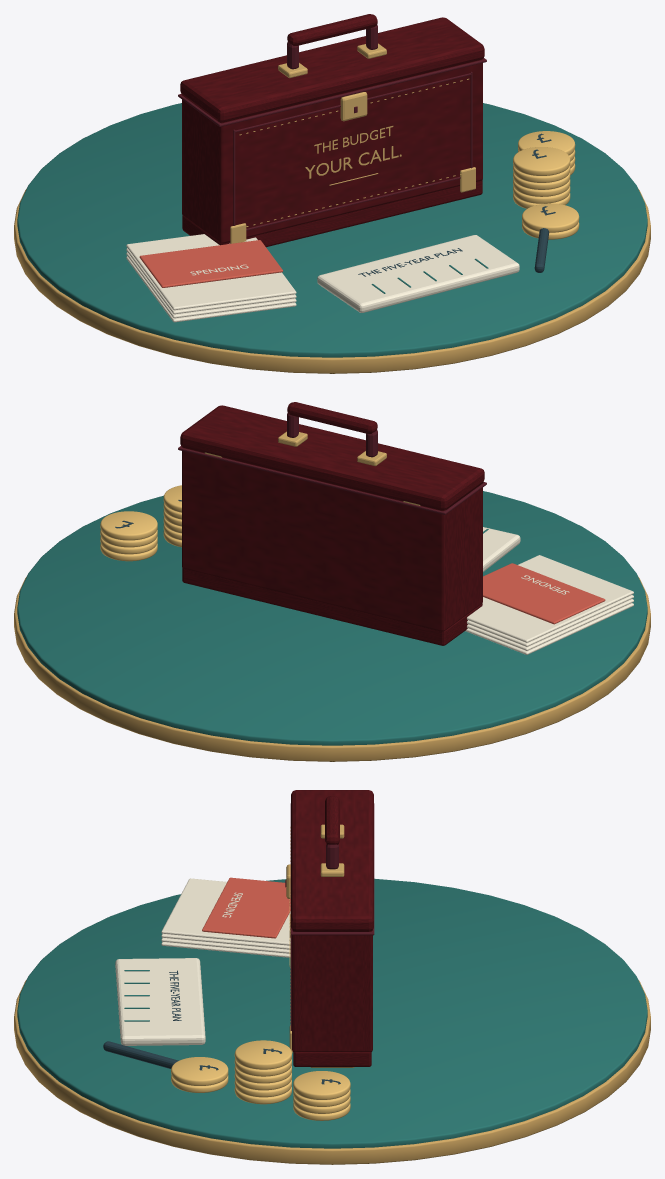
File: treasury-desk.glb
3 views of the same model, one above another, from view 1: azimuth 30°, elevation 25°; view 2: azimuth 150°, elevation 25°; view 3: azimuth 270°, elevation 25° (orthographic).
Visible parts, largest first — view 1: Green leather desk, Front, Lid, Circular desk edge, Budget ledger, Spending papers.003, Envelope flap, Base, Side, Revenue coin.005, Revenue coin.011, Handle grip (+8 smaller); view 2: Green leather desk, Back, Lid, Circular desk edge, Spending papers.003, Base, Envelope flap, Side, Revenue coin.009, Handle grip, Lid piping, Budget ledger (+3 smaller); view 3: Green leather desk, Circular desk edge, Lid, Budget ledger, Side.001, Envelope flap, Spending papers.003, Revenue coin.005, Revenue coin.009, Revenue coin.011, Back, Front (+7 smaller).
Boxes of the visible parts, x1,y1,x2,y2 form: Green leather desk: (17,103,647,357); Front: (216,59,482,243); Lid: (180,17,484,122); Circular desk edge: (14,188,650,373); Budget ledger: (317,235,519,312); Spending papers.003: (126,234,296,310); Envelope flap: (139,240,282,287); Base: (182,180,482,247); Side: (186,102,216,239); Revenue coin.005: (513,147,570,175); Revenue coin.011: (522,203,579,232); Handle grip: (287,14,377,45); Green leather desk: (17,491,647,745); Back: (182,447,448,631); Lid: (180,405,484,510); Circular desk edge: (14,576,650,761); Spending papers.003: (467,555,633,642); Base: (182,568,482,645); Envelope flap: (483,563,605,624); Side: (448,490,478,627); Revenue coin.009: (100,511,157,540); Handle grip: (287,402,377,433); Lid piping: (178,446,486,514); Budget ledger: (483,527,520,571); Green leather desk: (17,878,647,1148); Circular desk edge: (14,980,650,1164); Lid: (291,790,373,931); Budget ledger: (115,958,205,1045); Side.001: (302,935,362,1051); Envelope flap: (202,877,290,938); Spending papers.003: (161,878,290,945); Revenue coin.005: (234,1040,291,1069); Revenue coin.009: (293,1071,350,1099); Revenue coin.011: (171,1057,228,1085); Back: (362,931,372,1052); Front: (292,931,302,1052).
Bounding box in the file's own units: 6 × 2.24 × 6.
12 materials, 1 textured.
